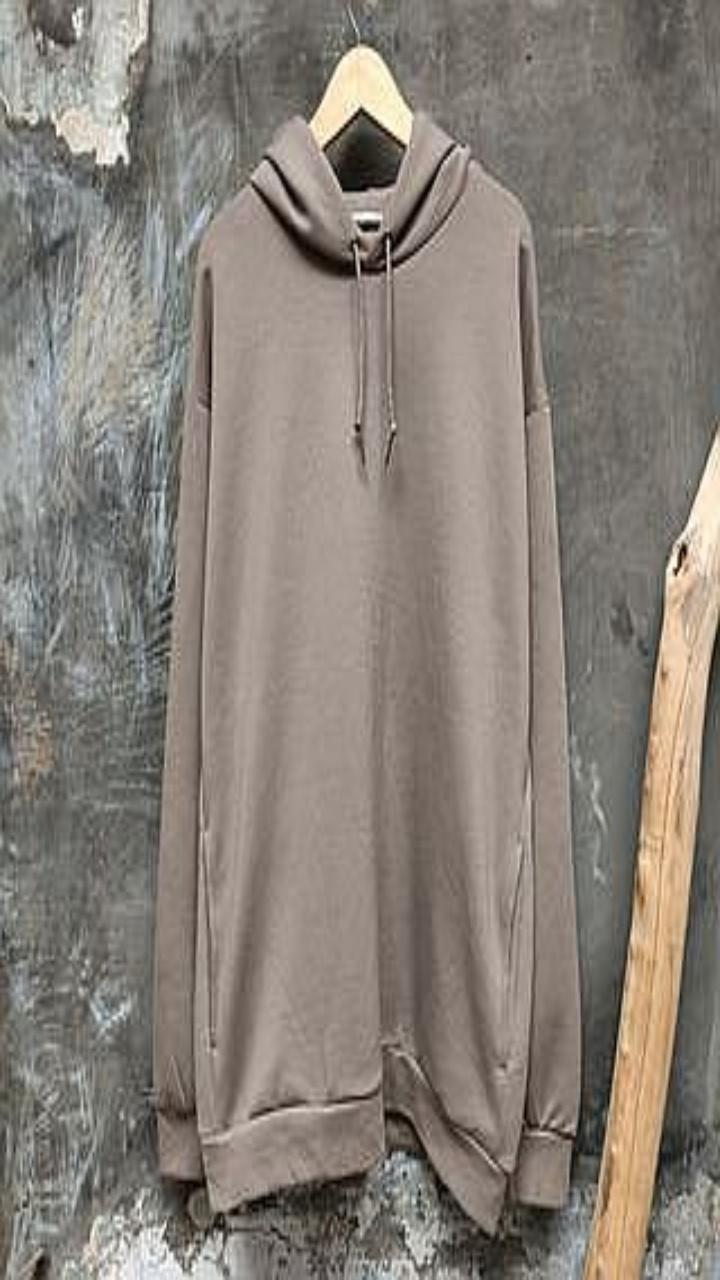Hoodie: (153, 110, 580, 1232)
